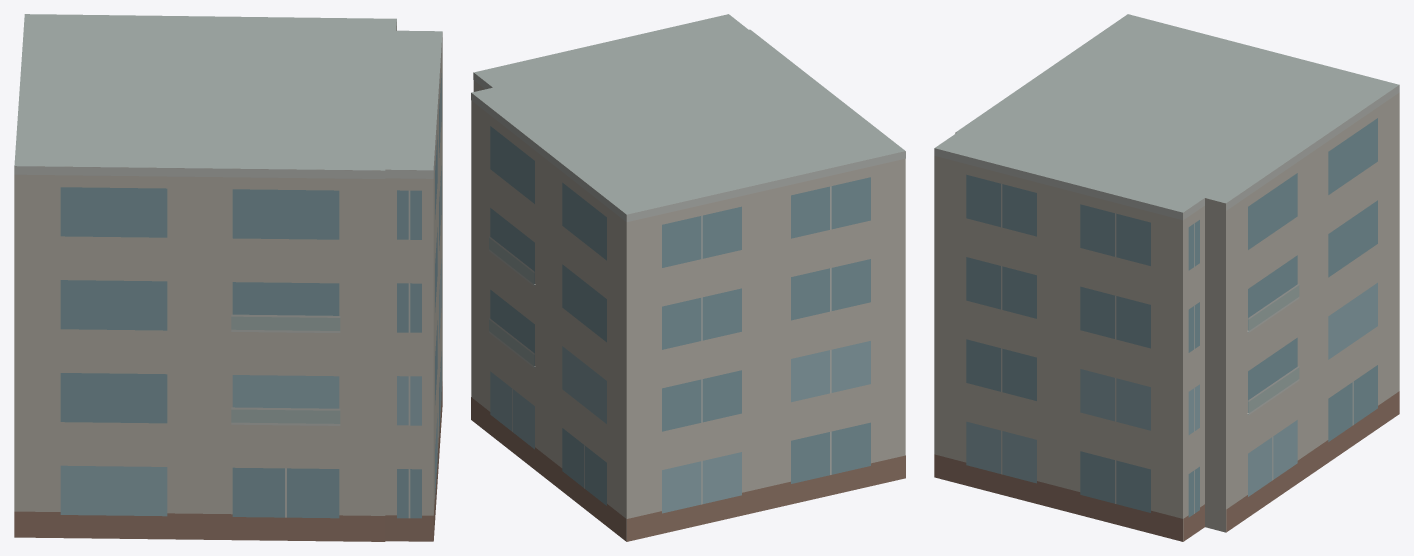
File: survey-upis-32662135.glb
The picture shows the model from 3 angles, left to right: view 1: azimuth 30°, elevation 25°; view 2: azimuth 150°, elevation 25°; view 3: azimuth 270°, elevation 25°; orthographic projection. The views are drawn at different scales.
Visible parts, largest first — view 1: survey-upis-32662135.tmp; view 2: survey-upis-32662135.tmp; view 3: survey-upis-32662135.tmp.
Part boxes in pixels (x1,y1,x2,y2): survey-upis-32662135.tmp: [14, 14, 442, 541]; survey-upis-32662135.tmp: [471, 14, 905, 541]; survey-upis-32662135.tmp: [934, 14, 1399, 541].
Bounding box in the file's own units: 13.67 × 10.55 × 13.52.
